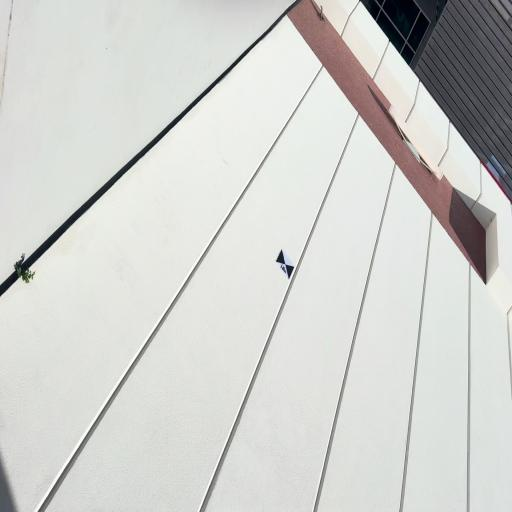target4: (275, 248, 295, 280)
